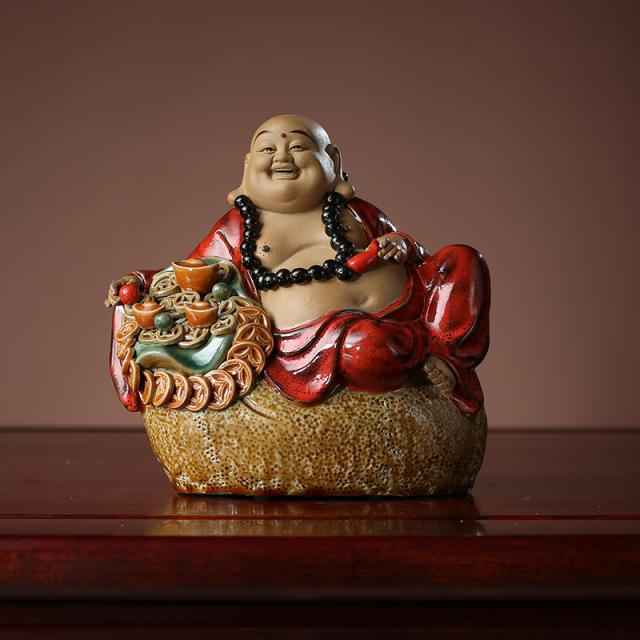Smiling Buddha: (184, 110, 436, 370)
